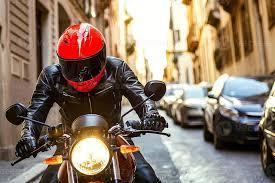Helmet: (55, 23, 106, 94)
